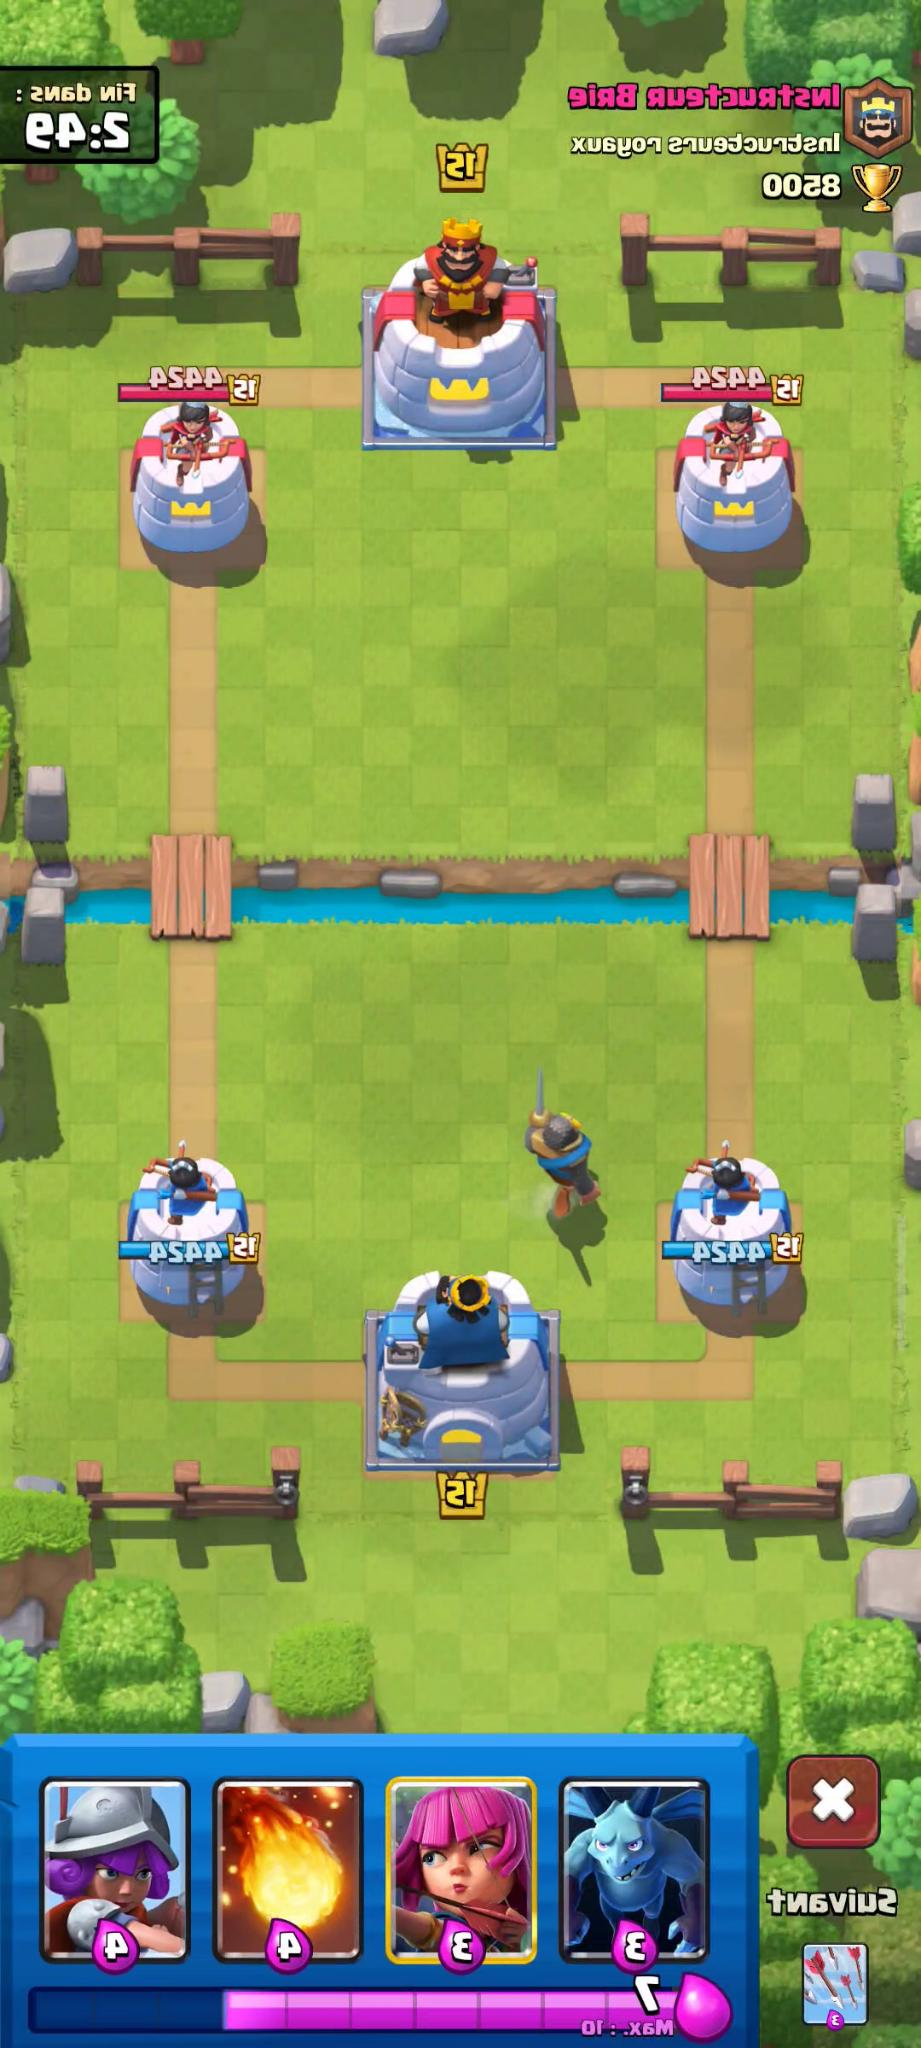chevalier: (526, 1071, 604, 1216)
